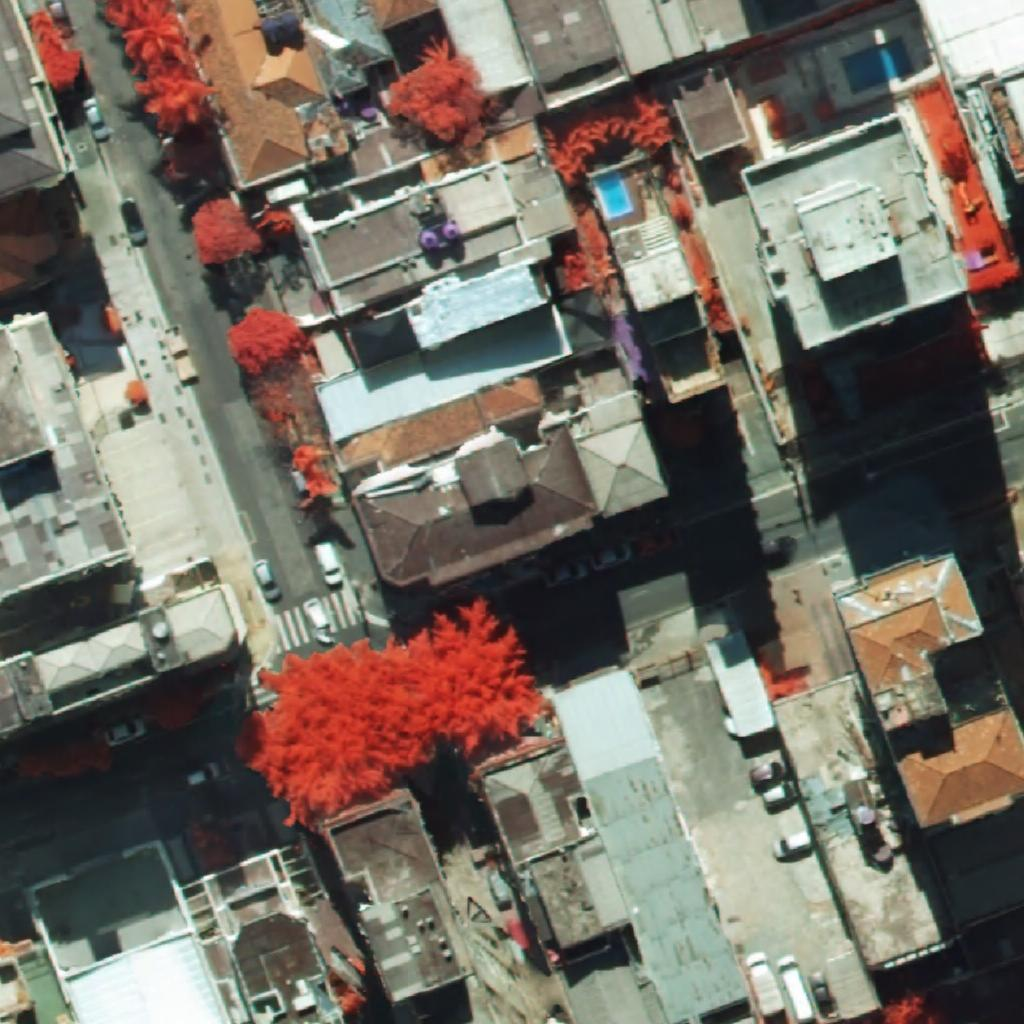pool: (842, 38, 913, 95), (596, 171, 629, 215)
